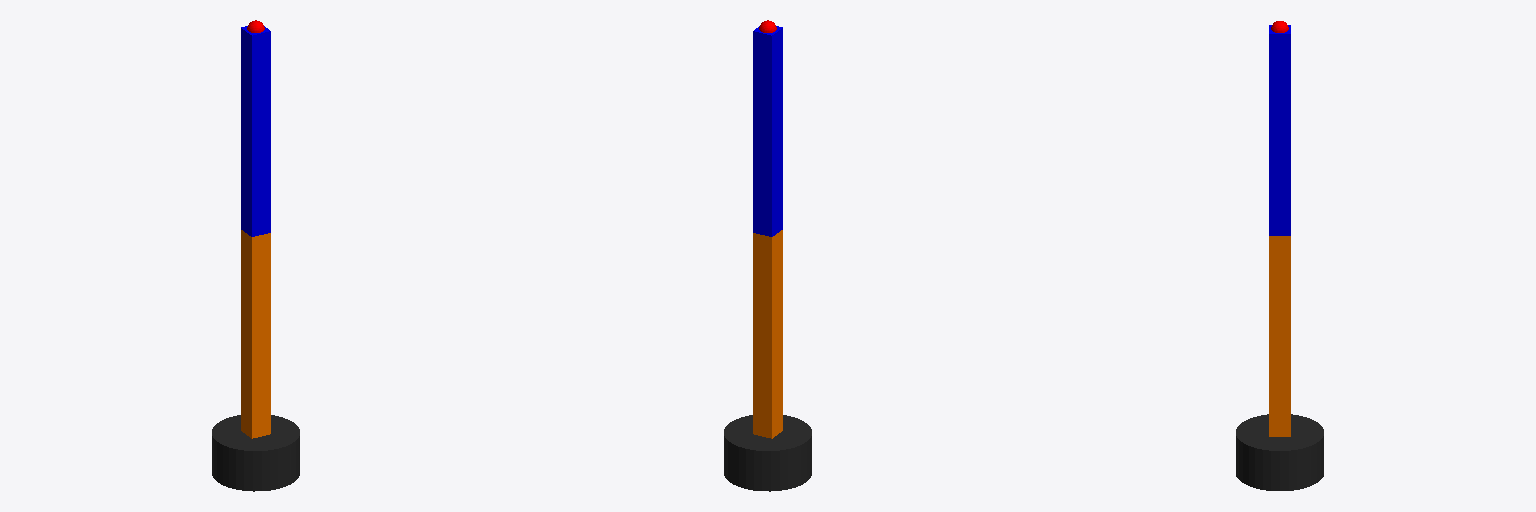
The robot description file, URDF, robot "two_dof_arm":
<?xml version="1.0"?>
<robot name="two_dof_arm">

  <link name="base_link">
    <visual>
      <geometry>
        <cylinder length="0.1" radius="0.1"/> </geometry>
      <origin xyz="0 0 0.05" rpy="0 0 0"/> <material name="gray">
        <color rgba="0.2 0.2 0.2 1"/> </material>
    </visual>

    <collision>
      <geometry>
        <cylinder length="0.1" radius="0.1"/>
      </geometry>
      <origin xyz="0 0 0.05" rpy="0 0 0"/>
    </collision>

    <inertial>
      <mass value="10.0"/>
      <origin xyz="0 0 0.05" rpy="0 0 0"/>
      <inertia ixx="0.03" ixy="0.0" ixz="0.0" iyy="0.03" iyz="0.0" izz="0.05"/>
    </inertial>
  </link>
  
  <joint name="joint1" type="revolute">
    <parent link="base_link"/>
    <child link="link1"/>
    <origin xyz="0 0 0.1" rpy="0 0 0"/>
    <axis xyz="0 0 1"/>
    <limit lower="-3.14" upper="3.14" effort="100.0" velocity="1.0"/>
    <dynamics damping="0.1" friction="0.05"/>
  </joint>

  <link name="link1">
    <visual>
      <geometry>
        <box size="0.05 0.05 0.5"/> 
        <!-- *.stl files -->
        <!-- <mesh filename="package://my_robot_description/meshes/link_1.stl" scale="0.01 0.01 0.01"/> -->
        <!-- <mesh filename="/home/jinho/Pysical_AI_book/Ch03/ros2_ws/src/my_robot_description/meshes/link_1.stl" scale="0.008 0.008 0.008"/> -->
      </geometry>
      <origin xyz="0 0 0.25" rpy="0 0 0"/>
      <!-- origin for *.stl files -->
      <!-- <origin xyz="0 0 0" rpy="0 1.5708 0"/> -->
      <material name="orange">
        <color rgba="1.0 0.5 0.0 1"/>
      </material>
    </visual>

    <collision>
      <geometry>
        <!-- <box size="0.05 0.05 0.5"/> -->
        <cylinder length="0.5" radius="0.05"/>
      </geometry>
      <origin xyz="0 0 0.25" rpy="0 0 0"/>
    </collision>

    <inertial>
      <mass value="1.0"/> <origin xyz="0 0 0.25" rpy="0 0 0"/>
      <inertia ixx="0.02" ixy="0.0" ixz="0.0" iyy="0.02" iyz="0.0" izz="0.0004"/>
    </inertial>
  </link>

    <joint name="joint2" type="revolute">
    <parent link="link1"/>
    <child link="link2"/>
    <origin xyz="0 0 0.5" rpy="0 0 0"/>
    <axis xyz="0 1 0"/>
    <limit lower="-1.57" upper="1.57" effort="100.0" velocity="1.0"/>
    <dynamics damping="0.1" friction="0.05"/>
  </joint>

  <link name="link2">
    <visual>
      <geometry>
        <box size="0.05 0.05 0.5"/>
      </geometry>
      <origin xyz="0 0 0.25" rpy="0 0 0"/>
      <material name="blue">
        <color rgba="0 0 1 1"/>
      </material>
    </visual>

    <collision>
      <geometry>
        <box size="0.05 0.05 0.5"/>
      </geometry>
      <origin xyz="0 0 0.25" rpy="0 0 0"/>
    </collision>

    <inertial>
      <mass value="1.0"/>
      <origin xyz="0 0 0.25" rpy="0 0 0"/>
      <inertia ixx="0.02" ixy="0.0" ixz="0.0" iyy="0.02" iyz="0.0" izz="0.0004"/>
    </inertial>
  </link>

  <joint name="joint_ee" type="fixed">
    <parent link="link2"/>
    <child link="end_effector_link"/>
    <origin xyz="0 0 0.5" rpy="0 0 0"/>
  </joint>

  <link name="end_effector_link">
    <visual>
      <geometry>
        <sphere radius="0.02"/>
      </geometry>
      <material name="red">
        <color rgba="1 0 0 1"/>
      </material>
    </visual>
    <inertial>
      <mass value="0.01"/>
      <origin xyz="0 0 0" rpy="0 0 0"/>
      <inertia ixx="0.0001" ixy="0.0" ixz="0.0" iyy="0.0001" iyz="0.0" izz="0.0001"/>
    </inertial>
  </link>

</robot>

--- Render facts (derived) ---
Views: 3 orthographic renders of the robot side by side, from view 1: azimuth 30°, elevation 25°; view 2: azimuth 150°, elevation 25°; view 3: azimuth 270°, elevation 25°.
Model two_dof_arm with 4 links and 3 joints (2 revolute, 1 fixed), rooted at base_link, posed all joints at 0.
Links seen in each view (by area): view 1: link2, link1, base_link; view 2: link2, link1, base_link; view 3: base_link, link2, link1.
Boxes of the visible links, x1,y1,x2,y2 form: link2: [241, 26, 270, 236]; link1: [241, 230, 270, 438]; base_link: [212, 415, 299, 491]; link2: [753, 26, 782, 236]; link1: [753, 230, 782, 438]; base_link: [724, 415, 811, 491]; base_link: [1236, 414, 1323, 490]; link2: [1269, 25, 1290, 235]; link1: [1269, 236, 1290, 436].
Size in the robot's own frame: 0.2 by 0.2 by 1.12 metres.
Geometry: primitives only (box / cylinder / sphere), no mesh files.
